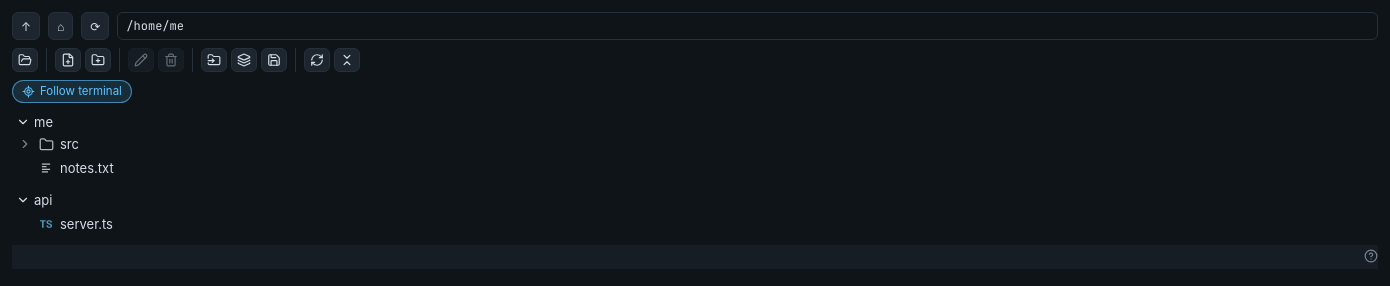
Test: workspace folders in DEV mode › collapses the workspace roots too when the workspace has several folders, as VS Code's Explorer
Expected: the text "server.ts" is shown, x1=60 y1=216 x2=113 y2=232
Step 1. Click the button named "Collapse Folders in Explorer" → (347, 60), box x1=334 y1=48 x2=360 y2=72
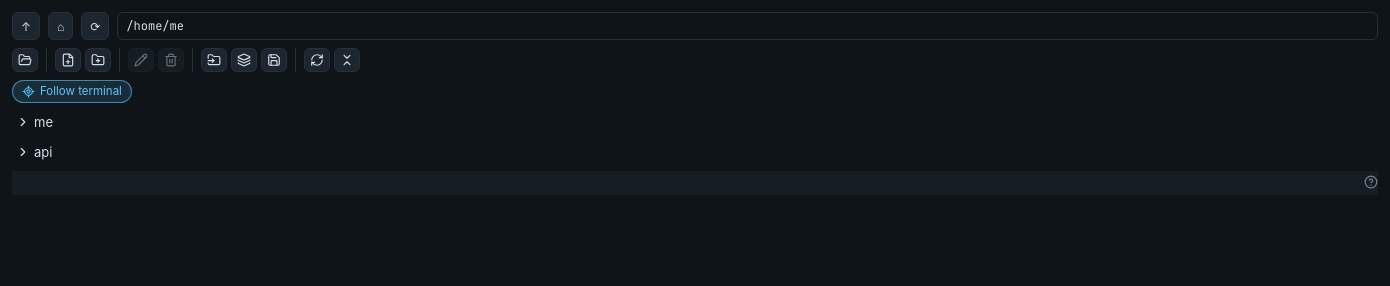
Expected: the button "me" is collapsed, x1=12 y1=111 x2=1370 y2=133
Expected: the button "api" is collapsed
Expected: the text "notes.txt" is gone
A root opened again shows its first level.
Step 2. Click the button "api" → (23, 152), box x1=12 y1=141 x2=1370 y2=163
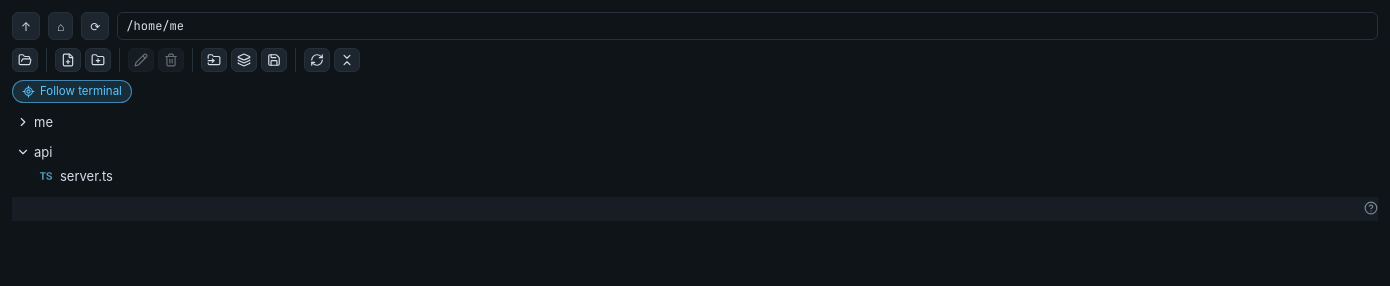
Expected: the text "server.ts" is shown, x1=60 y1=168 x2=113 y2=184
